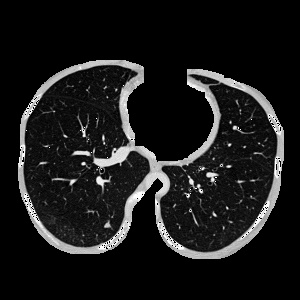PN: (105, 223, 109, 227)
